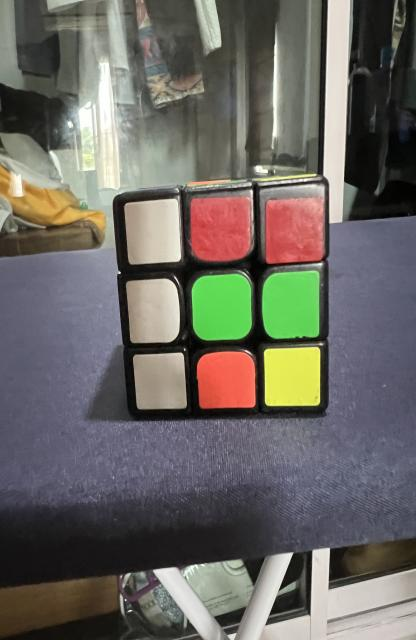Green: (192, 274, 252, 341), (262, 270, 320, 339)
Orange: (197, 351, 256, 409)
Red: (265, 196, 325, 264), (191, 196, 251, 261)
White: (125, 199, 181, 265), (126, 279, 180, 344), (133, 352, 186, 410)
Yellow: (264, 346, 321, 406)
